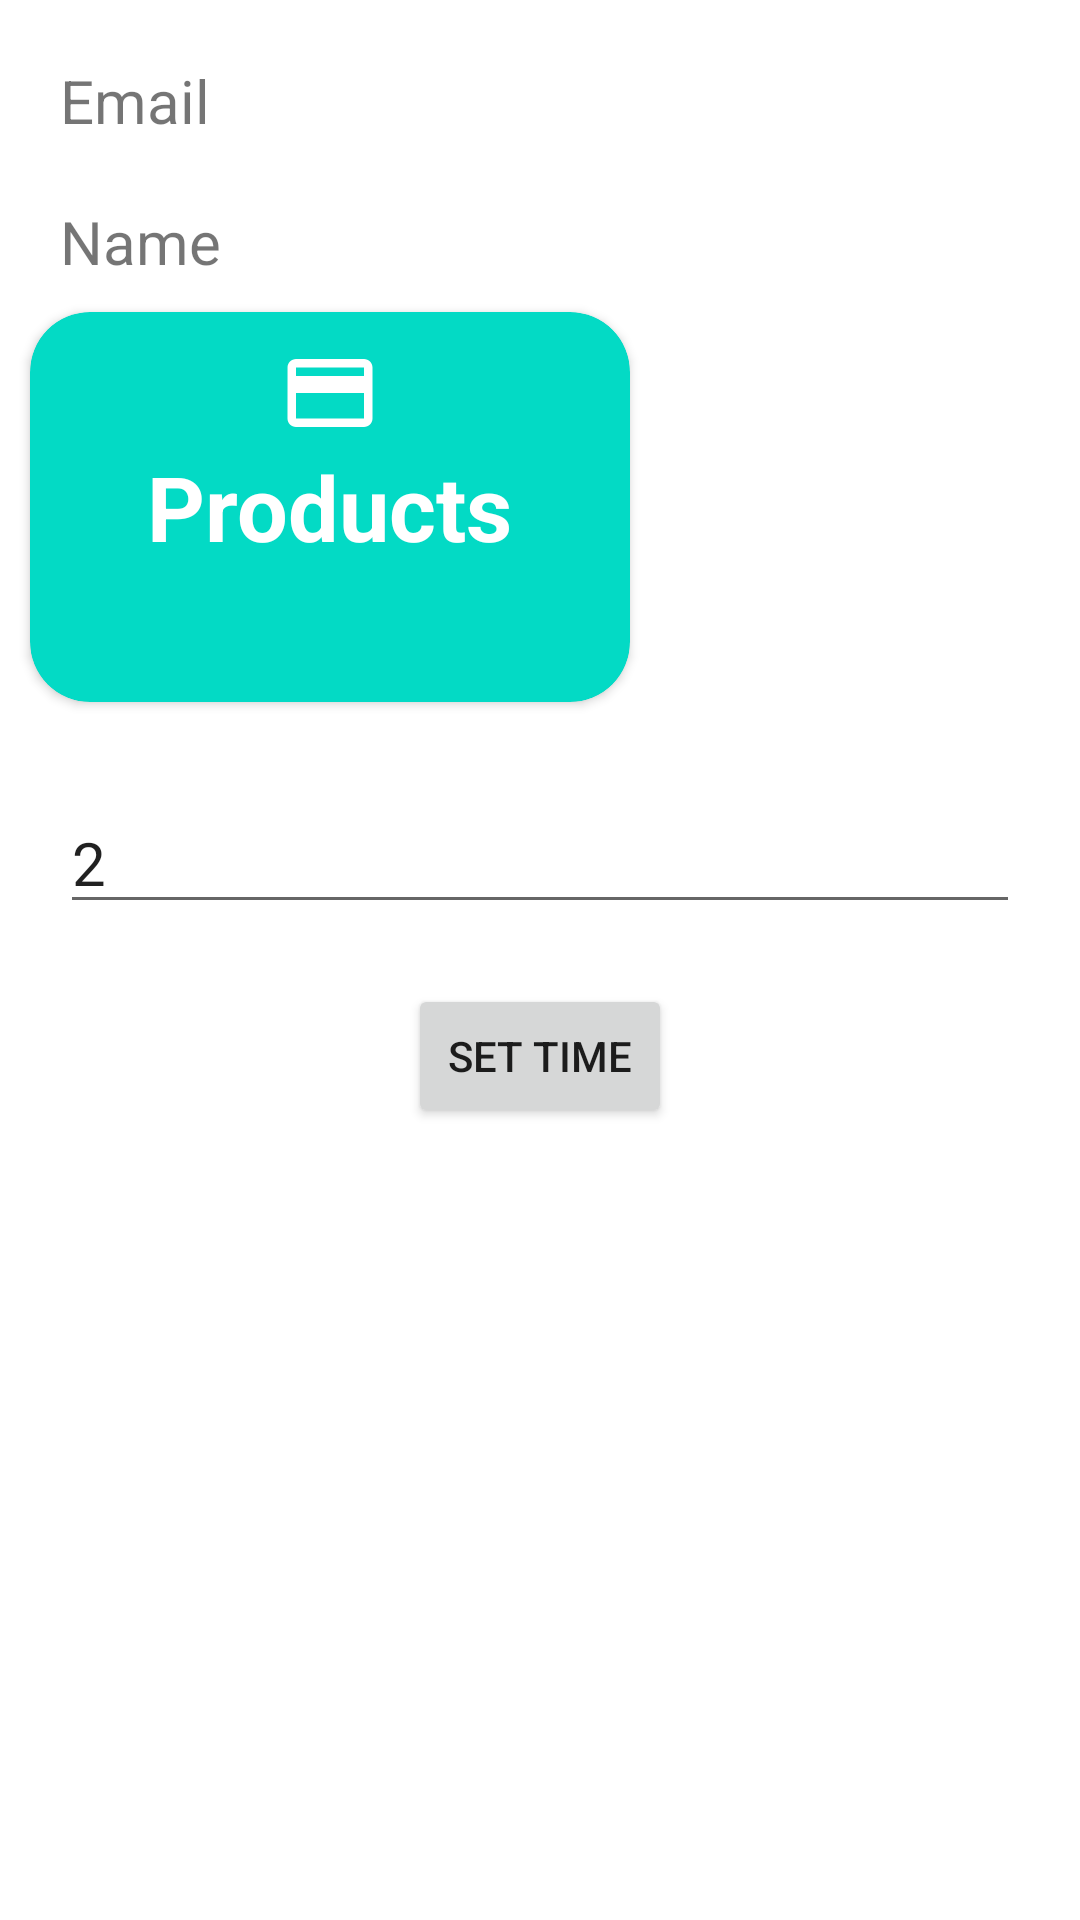

Icon bounding boxes for this 1080*1920 phone screenshot, format [left=x1, top=y1, right=x2, bottom=y2]:
credit card: [left=287, top=359, right=373, bottom=427]
